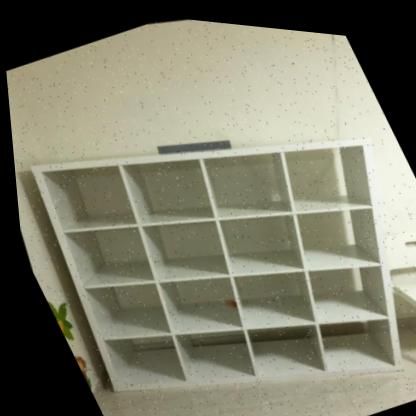Shelf: (2, 25, 416, 416)
